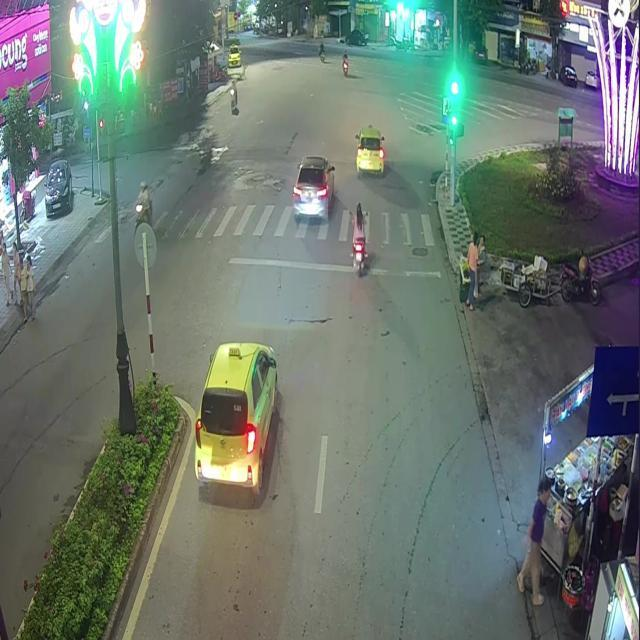car: (187, 341, 277, 508), (288, 155, 336, 230), (353, 125, 389, 185)
green_light: (447, 77, 460, 131)
stop_line: (228, 256, 440, 277)
